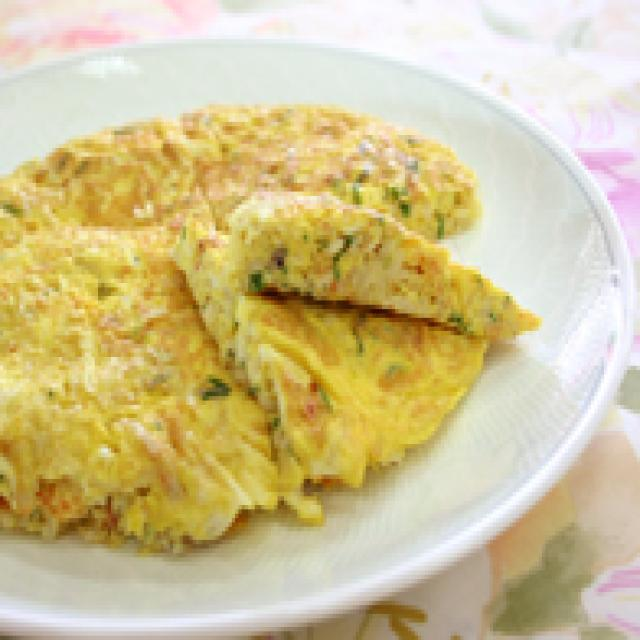鸡蛋料理: (0, 96, 529, 548)
